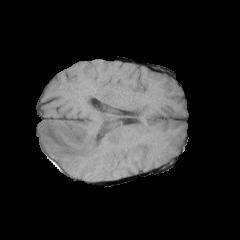glioma: (39, 120, 104, 169)
